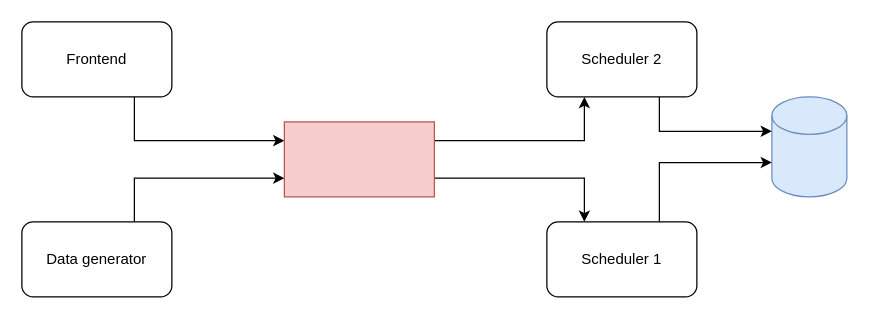
This 869x319 diagram has some shape labels left out. Here are the shapes that lost their labels. From the top down, the centre of each, then its label:
At point (358, 159): "Loadbalancer".
At point (809, 146): "Postgres".
